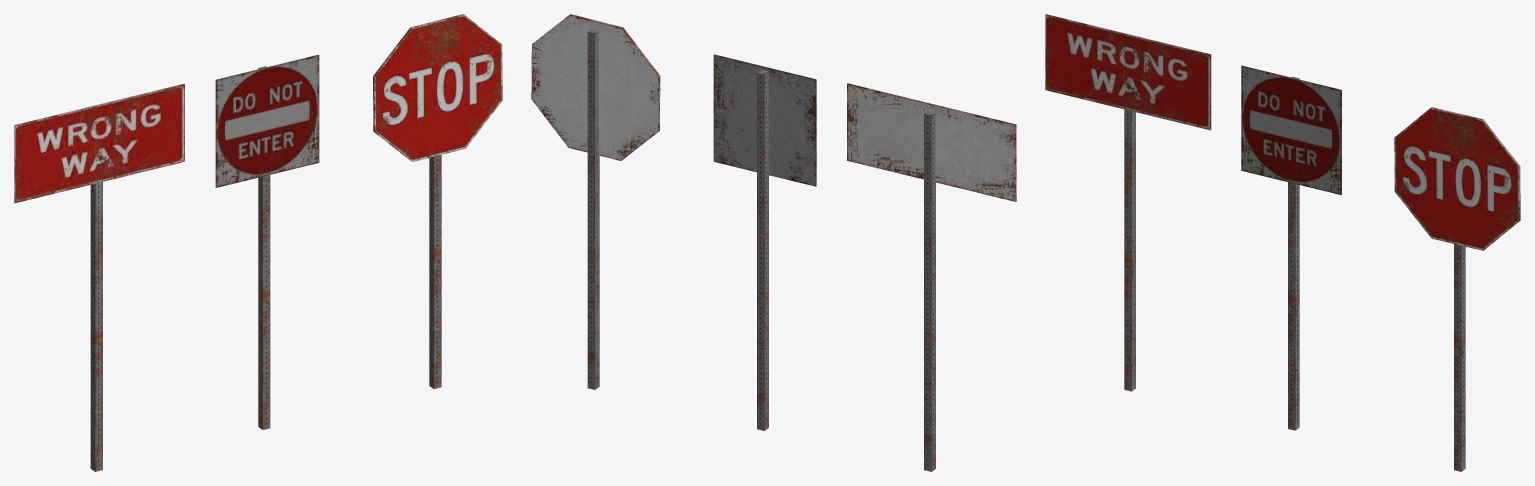
The model's file is Barrier.glb.
3 renders of one model, left to right at view 1: azimuth 30°, elevation 25°; view 2: azimuth 150°, elevation 25°; view 3: azimuth 330°, elevation 25°, orthographic. The views are drawn at different scales.
Visible parts, largest first — view 1: Stop2, Wrong_Way, Not_Enter2; view 2: Stop2, Wrong_Way, Not_Enter2; view 3: Stop2, Wrong_Way, Not_Enter2.
Part boxes in pixels (bbox=[...]): Stop2: bbox=[373, 14, 502, 388]; Wrong_Way: bbox=[14, 83, 184, 471]; Not_Enter2: bbox=[215, 54, 319, 429]; Stop2: bbox=[531, 14, 660, 389]; Wrong_Way: bbox=[847, 83, 1016, 471]; Not_Enter2: bbox=[713, 54, 816, 430]; Stop2: bbox=[1394, 107, 1520, 471]; Wrong_Way: bbox=[1045, 14, 1211, 391]; Not_Enter2: bbox=[1241, 65, 1341, 430].
Size of the model in its own units: 2.13 by 1.53 by 0.0405.
6 materials, 6 textured.
